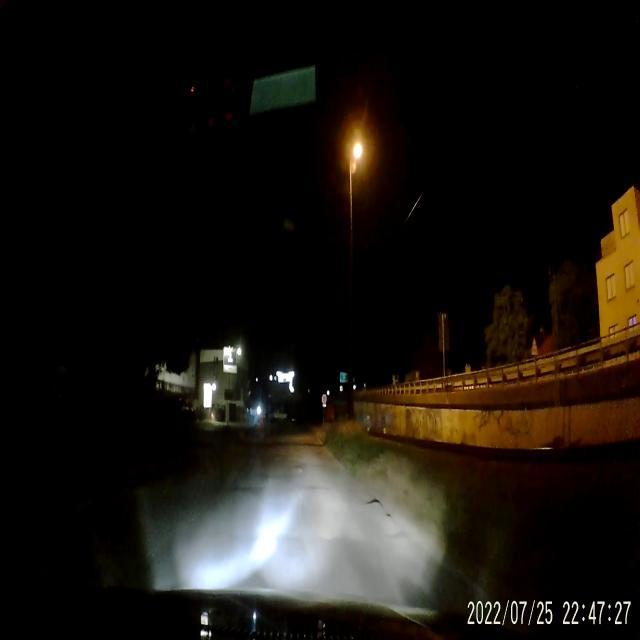Pothole: (357, 491, 380, 508)
